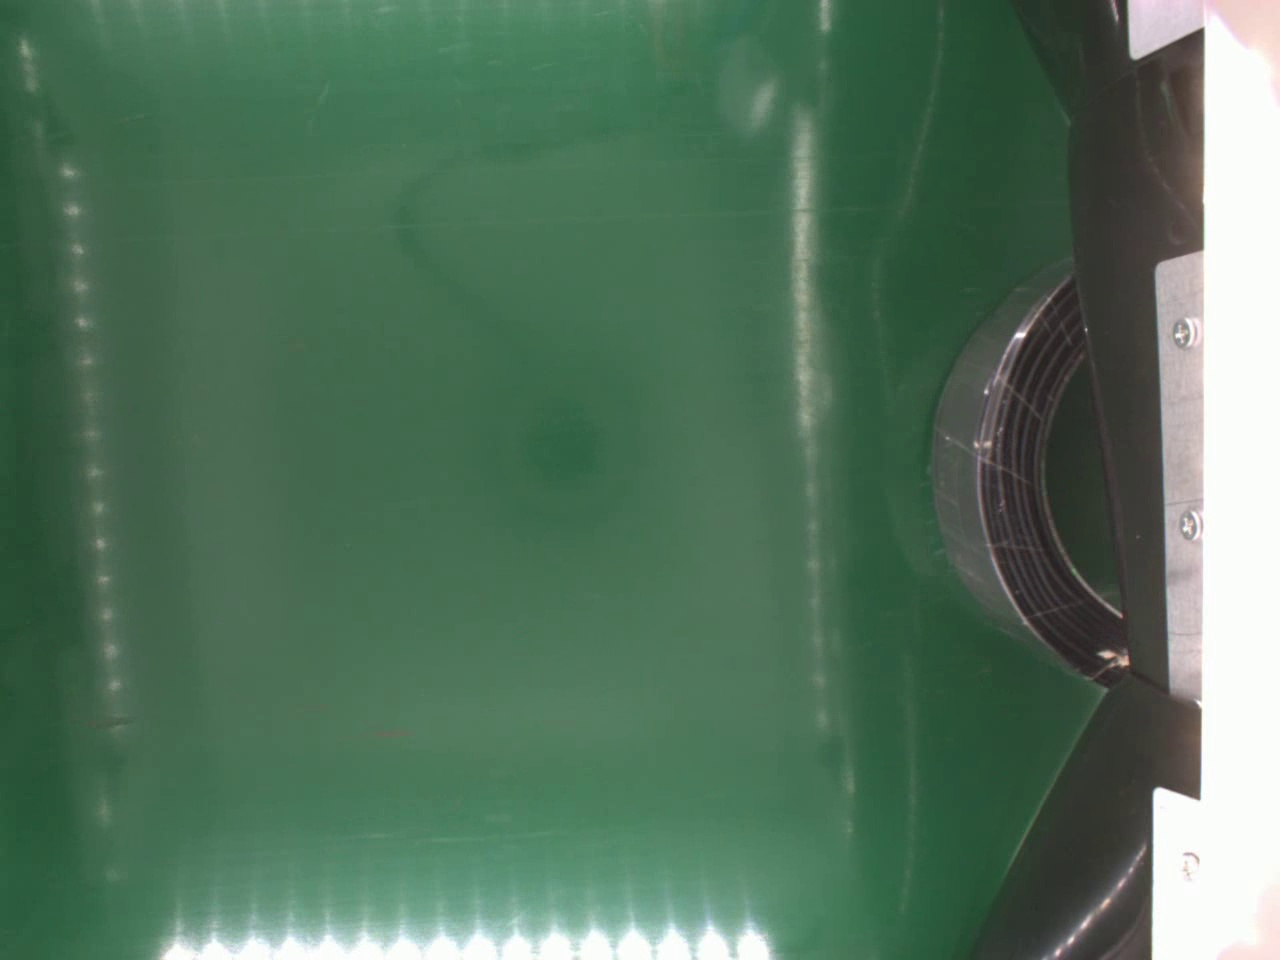black: (932, 251, 1125, 690)
